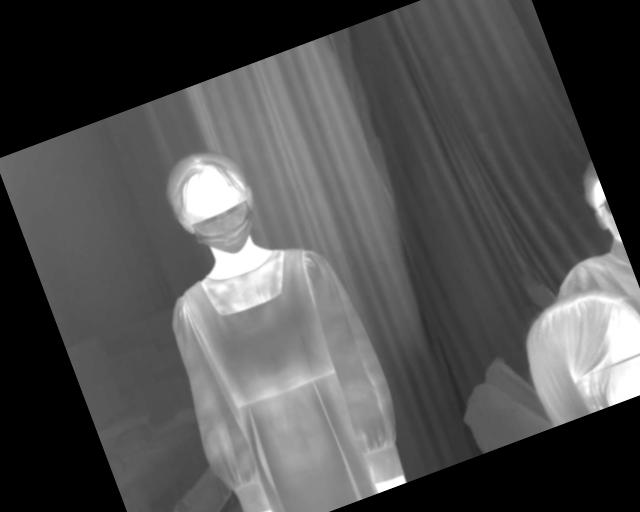face: (152, 137, 272, 272)
